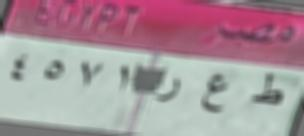1: (112, 63, 136, 98)
4: (5, 52, 33, 88)
5: (36, 56, 67, 89)
7: (73, 60, 107, 92)
Taa: (249, 71, 287, 111)
ain: (197, 74, 234, 117)
raa: (149, 72, 189, 108)
